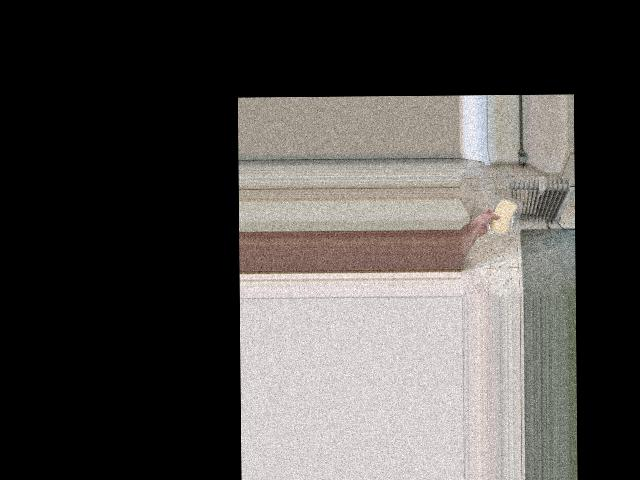cheese: (488, 195, 517, 236)
